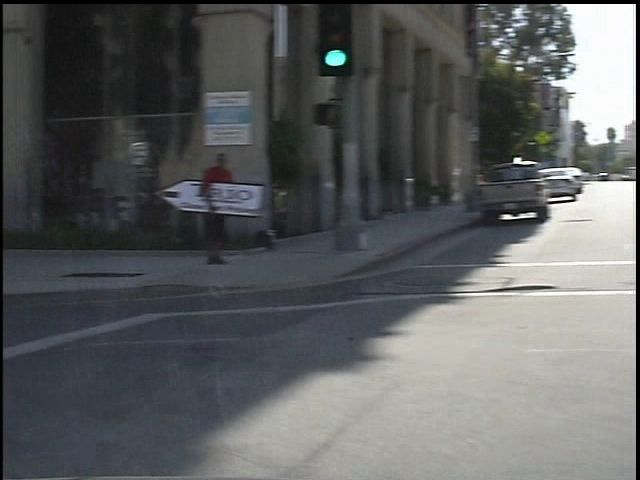person: (185, 148, 227, 273)
